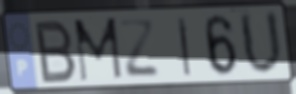6: (202, 11, 241, 78)
B: (34, 18, 79, 86)
I: (176, 15, 193, 79)
M: (72, 15, 125, 84)
U: (237, 8, 286, 79)
Z: (117, 18, 162, 80)
